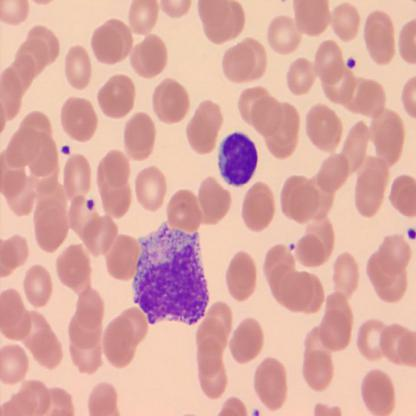Myelocyte: (133, 225, 210, 324)
